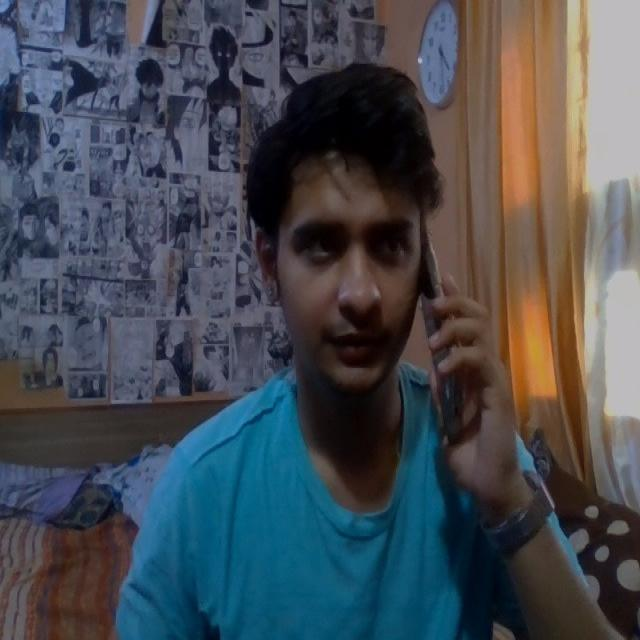oncall: (201, 39, 535, 493)
phone: (410, 228, 470, 446)
